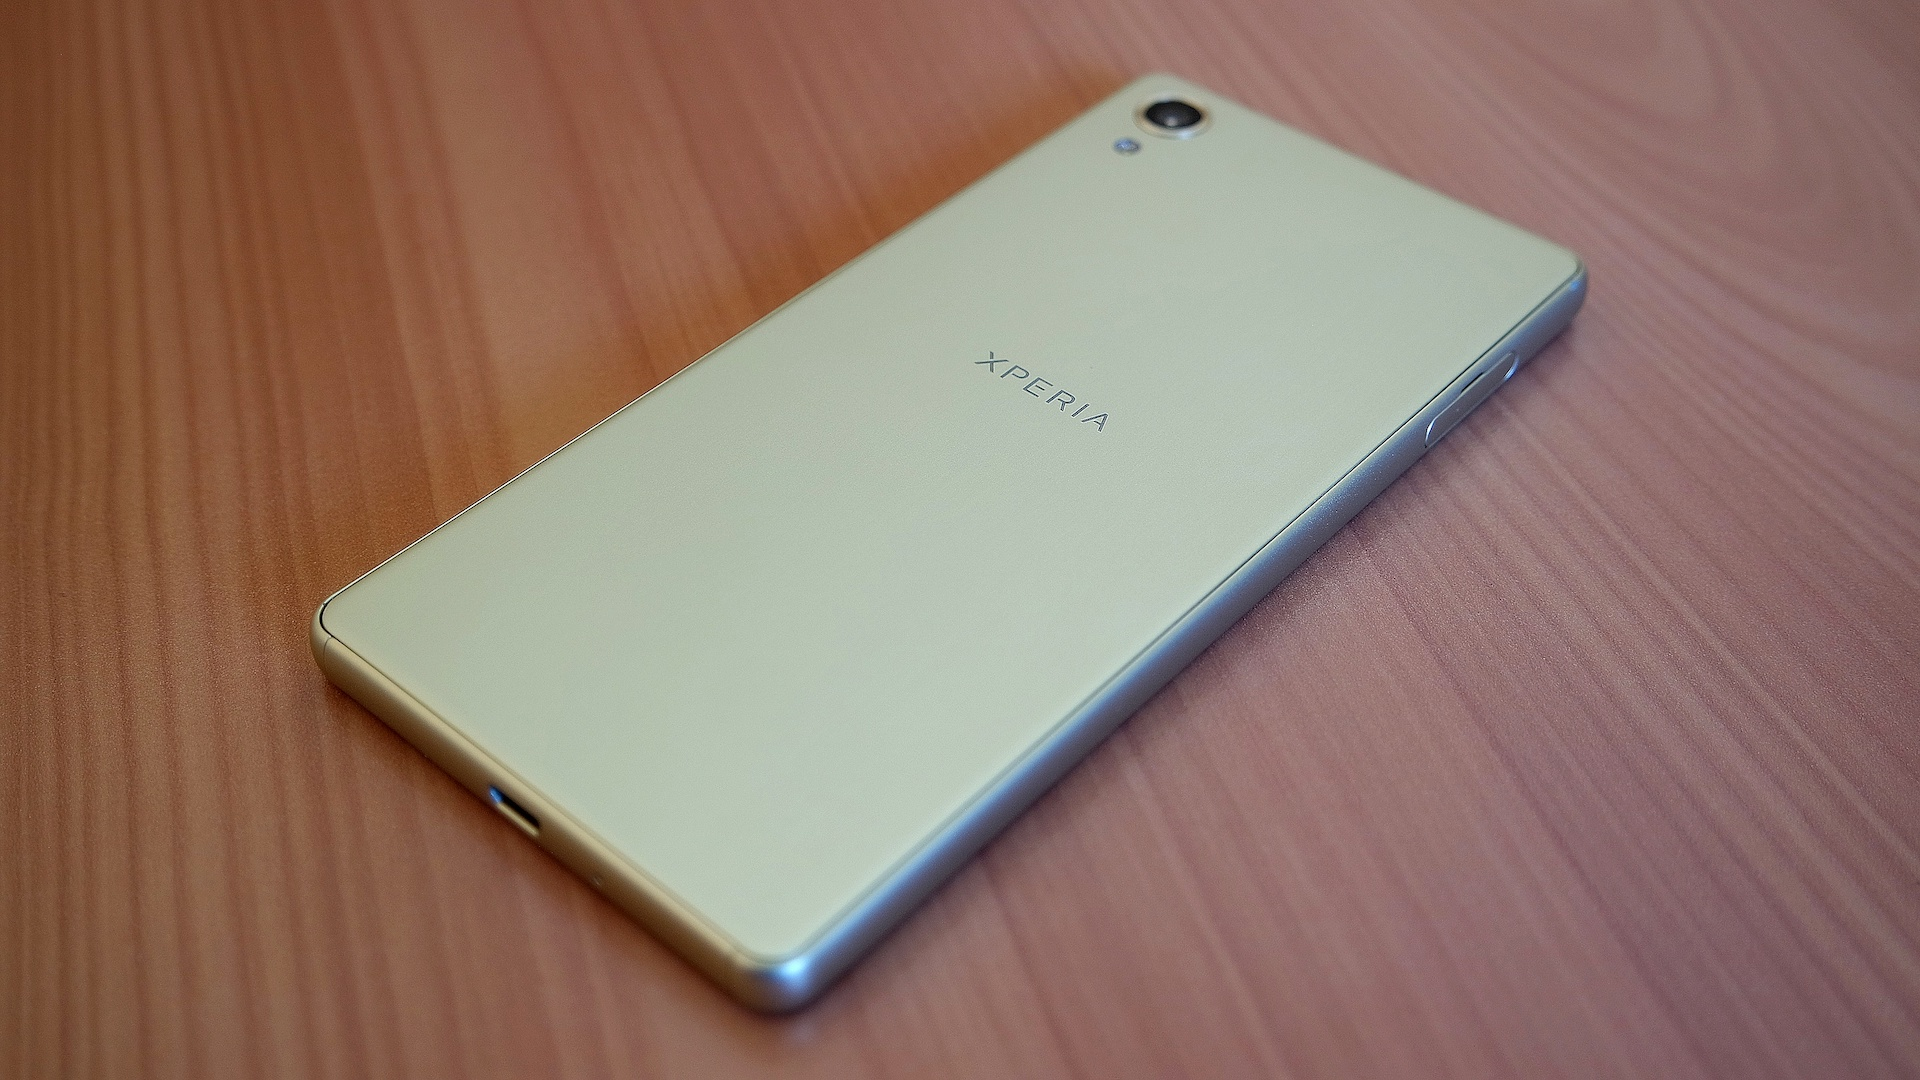smartphone: (309, 69, 1592, 1019)
